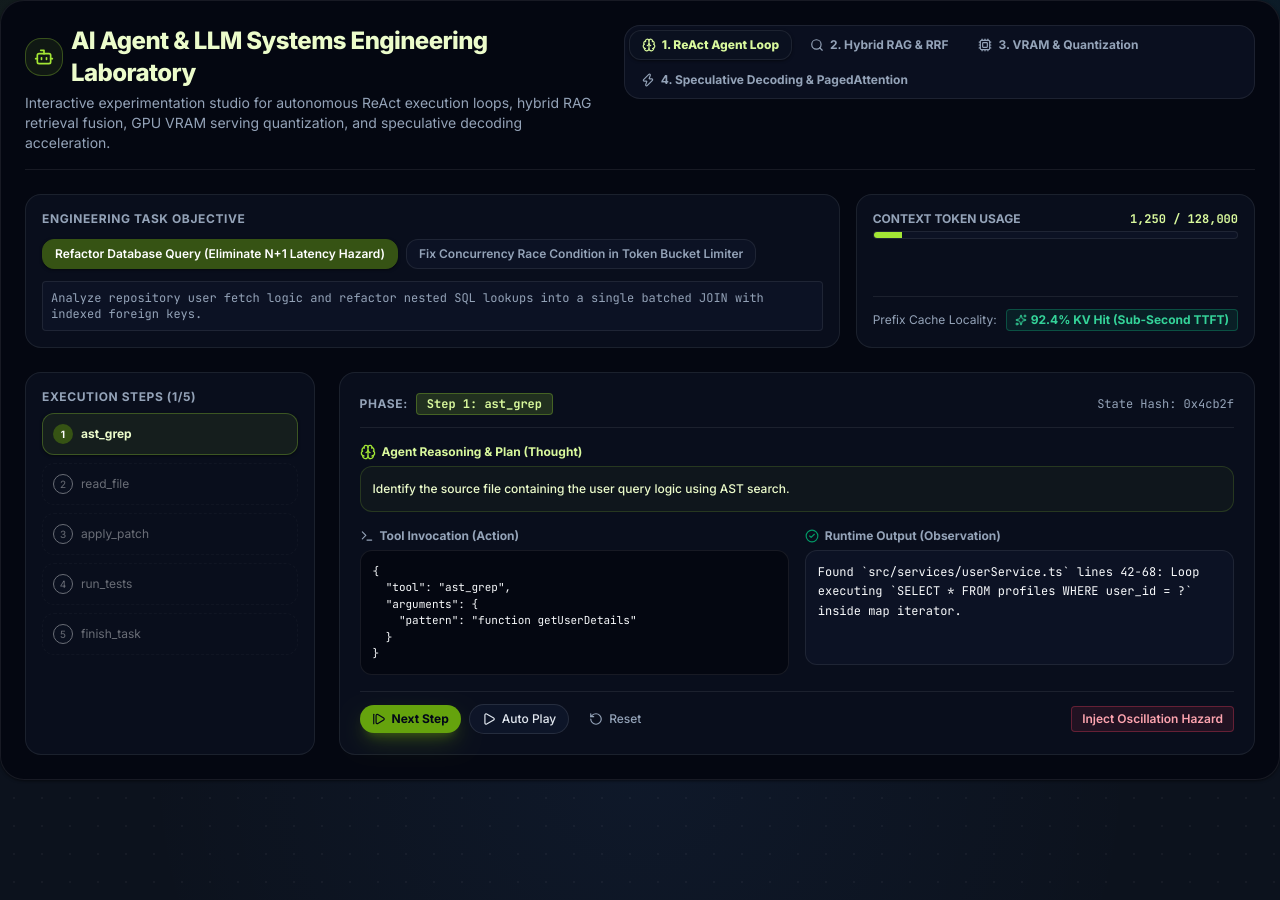
Test: AiAgentLabSandbox Component › switches to Hybrid RAG & RRF tab and renders candidate fusion rankings
The image size is (1280, 900).
Click the button "2. Hybrid RAG & RRF" at (879, 45), box [798,31,960,59]
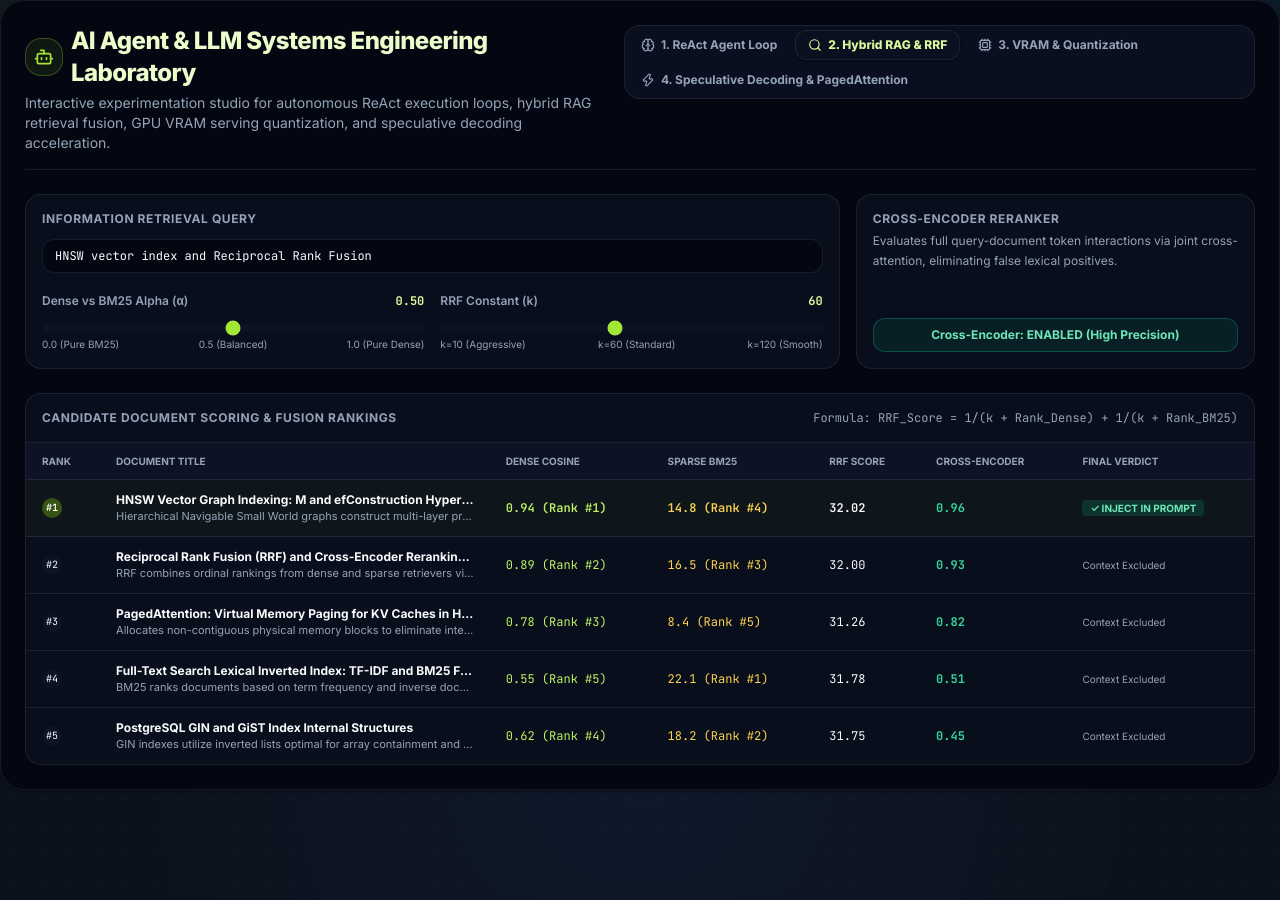
Expected: the text "Information Retrieval Query" is shown, [42,211,257,226]
Expected: the text "Cross-Encoder Reranker" is shown, [873,211,1059,226]
Expected: the text "Candidate Document Scoring & Fusion Rankings" is shown, [42,410,397,426]
